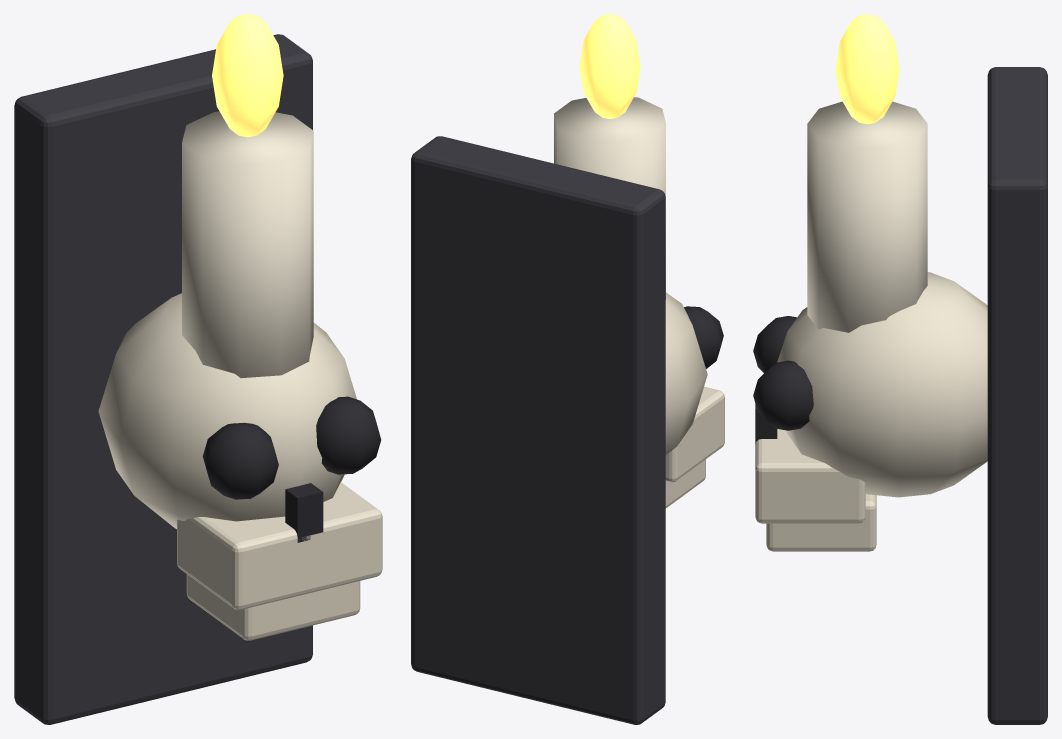
Rendered from sconce_skull_holder.glb.
The picture shows the model from 3 angles, left to right: view 1: azimuth 30°, elevation 25°; view 2: azimuth 150°, elevation 25°; view 3: azimuth 270°, elevation 25°; orthographic projection. The views are drawn at different scales.
Visible parts, largest first — view 1: GD_sconce_skull_holder__m0, GD_sconce_skull_holder__m1, GD_sconce_skull_holder__m4, GD_sconce_skull_holder__m2, GD_sconce_skull_holder__m5; view 2: GD_sconce_skull_holder__m0, GD_sconce_skull_holder__m1, GD_sconce_skull_holder__m4, GD_sconce_skull_holder__m5, GD_sconce_skull_holder__m2; view 3: GD_sconce_skull_holder__m1, GD_sconce_skull_holder__m0, GD_sconce_skull_holder__m4, GD_sconce_skull_holder__m5, GD_sconce_skull_holder__m2.
Boxes of the visible parts, x1,y1,x2,y2 form: GD_sconce_skull_holder__m0: (14,34,312,724); GD_sconce_skull_holder__m1: (98,293,382,640); GD_sconce_skull_holder__m4: (182,111,313,378); GD_sconce_skull_holder__m2: (202,396,381,542); GD_sconce_skull_holder__m5: (212,14,283,137); GD_sconce_skull_holder__m0: (411,136,665,724); GD_sconce_skull_holder__m1: (665,292,724,508); GD_sconce_skull_holder__m4: (554,97,665,299); GD_sconce_skull_holder__m5: (579,14,640,118); GD_sconce_skull_holder__m2: (684,306,723,368); GD_sconce_skull_holder__m1: (755,272,987,551); GD_sconce_skull_holder__m0: (987,67,1047,724); GD_sconce_skull_holder__m4: (807,101,927,332); GD_sconce_skull_holder__m5: (835,14,899,124); GD_sconce_skull_holder__m2: (753,316,813,443).
Size of the model in its own units: 0.14 by 0.3604 by 0.1471.
